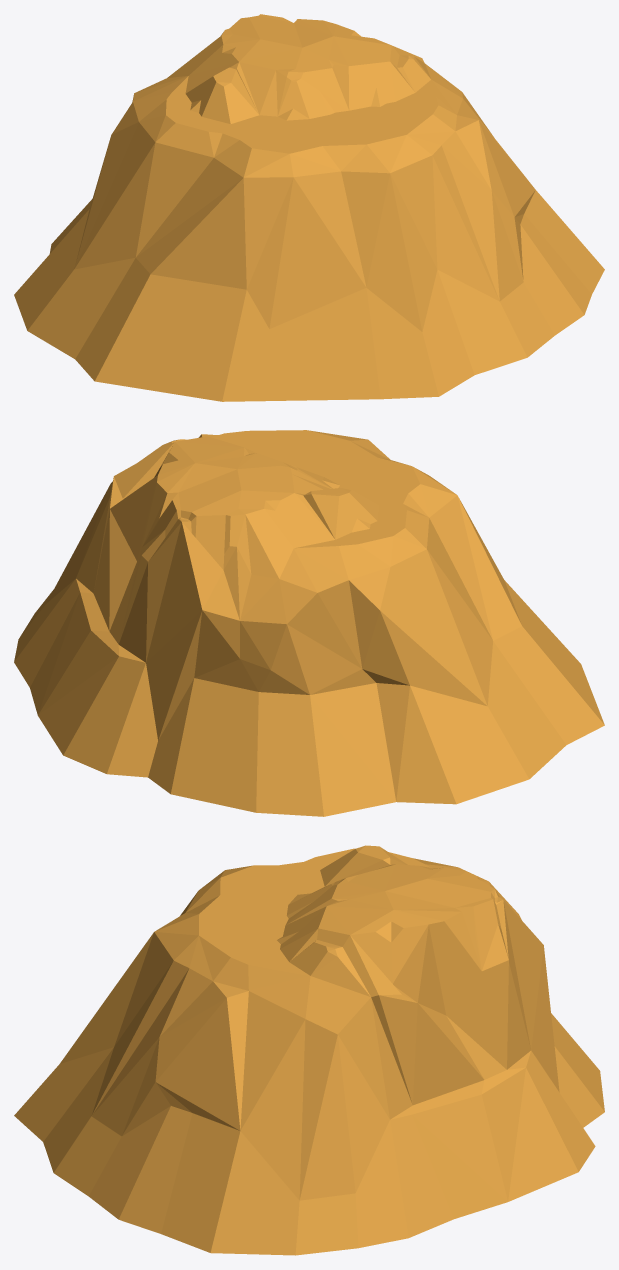
File: terrains-island-tiny.glb
The picture shows the model from 3 angles, top to bottom: view 1: azimuth 30°, elevation 25°; view 2: azimuth 150°, elevation 25°; view 3: azimuth 270°, elevation 25°; orthographic projection. The views are drawn at different scales.
Visible parts, largest first — view 1: island-tiny; view 2: island-tiny; view 3: island-tiny.
Boxes of the visible parts, box(x1,y1,x2,y2) form: island-tiny: box(14, 14, 604, 401); island-tiny: box(14, 430, 604, 816); island-tiny: box(14, 845, 604, 1255).
Bounding box in the file's own units: 99.94 × 41.6 × 92.27.
